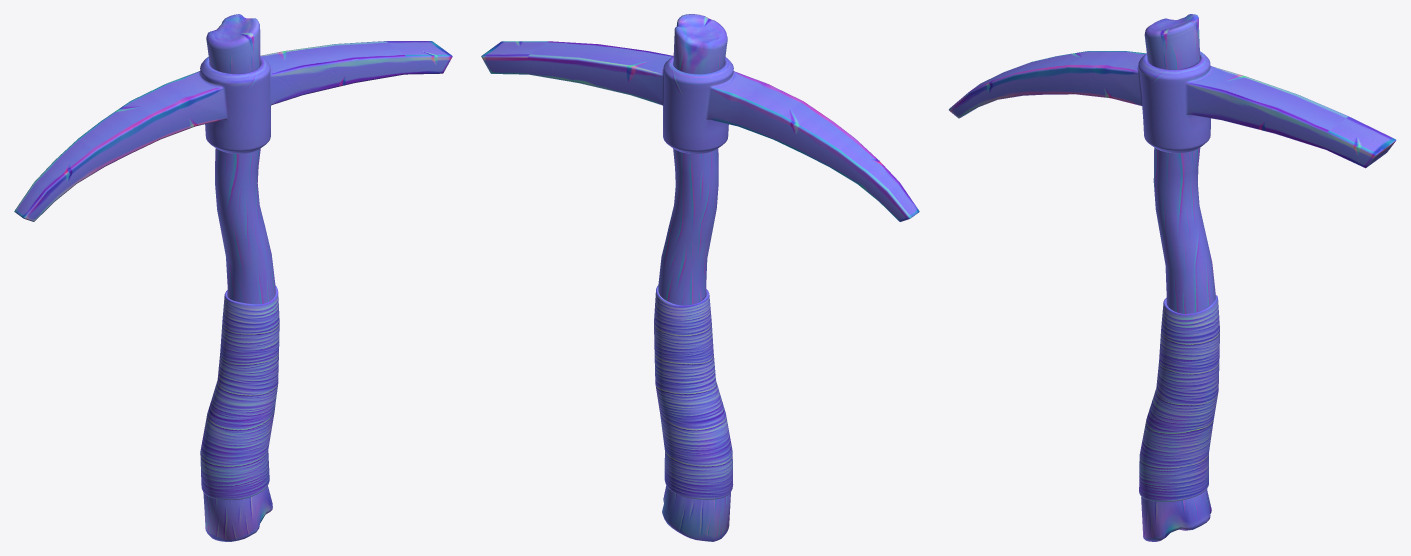
Rendered from Pickaxe.obj.
3 views of the same model, side by side, from view 1: azimuth 30°, elevation 25°; view 2: azimuth 150°, elevation 25°; view 3: azimuth 330°, elevation 25° (orthographic). The views are drawn at different scales.
Visible parts, largest first — view 1: Cylinder.004_Cylinder.010_Cylinder.004_Cylinder.010; view 2: Cylinder.004_Cylinder.010_Cylinder.004_Cylinder.010; view 3: Cylinder.004_Cylinder.010_Cylinder.004_Cylinder.010.
Boxes of the visible parts, x1,y1,x2,y2 form: Cylinder.004_Cylinder.010_Cylinder.004_Cylinder.010: (14, 14, 452, 541); Cylinder.004_Cylinder.010_Cylinder.004_Cylinder.010: (481, 14, 919, 541); Cylinder.004_Cylinder.010_Cylinder.004_Cylinder.010: (949, 14, 1396, 541).
Size of the model in its own units: 5.52 by 6.37 by 0.8139.
